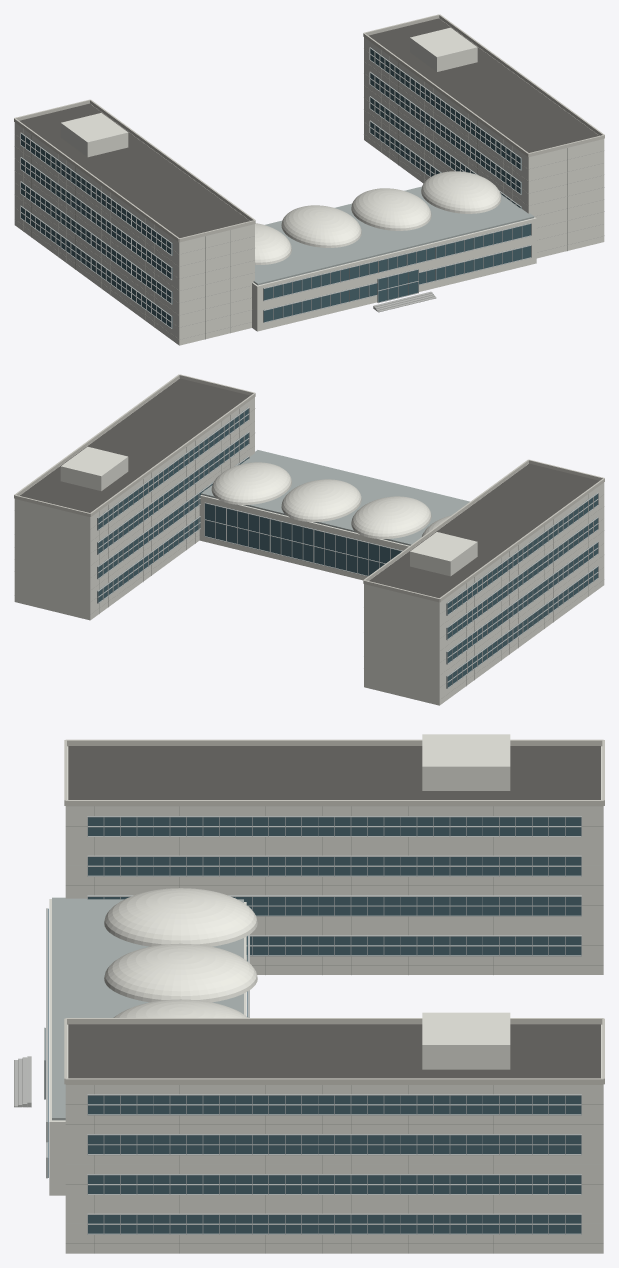
The picture shows the model from 3 angles, top to bottom: view 1: azimuth 30°, elevation 25°; view 2: azimuth 150°, elevation 25°; view 3: azimuth 270°, elevation 25°; orthographic projection. The views are drawn at different scales.
Parts seen in each view (by area): view 1: left-wing__white, right-wing__white, rounded-roof-covers-estimated__white, left-roof-estimated__roof, right-roof-estimated__roof, link-roof__rooflight, left-outer-estimated-ribbon__blue, low-front-link__white, link-front-ribbon__blue, right-inner-ribbon__blue, left-outer-estimated-ribbon__frame, right-inner-ribbon__frame (+9 smaller); view 2: left-wing__white, right-wing__white, left-roof-estimated__roof, right-roof-estimated__roof, rounded-roof-covers-estimated__white, left-outer-estimated-ribbon__blue, link-rear-estimated__blue, right-inner-ribbon__blue, left-outer-estimated-ribbon__frame, link-roof__rooflight, right-inner-ribbon__frame, low-front-link__white (+7 smaller); view 3: right-wing__white, left-wing__white, right-outer-estimated-ribbon__blue, left-inner-ribbon__blue, right-roof-estimated__roof, left-roof-estimated__roof, rounded-roof-covers-estimated__white, right-outer-estimated-ribbon__frame, left-inner-ribbon__frame, link-roof__rooflight, left-roof-estimated__light, right-roof-estimated__light (+6 smaller).
Boxes of the visible parts, x1,y1,x2,y2 form: left-wing__white: (14,104,254,345); right-wing__white: (364,18,604,258); rounded-roof-covers-estimated__white: (255,171,501,264); left-roof-estimated__roof: (19,103,249,237); right-roof-estimated__roof: (369,18,598,152); link-roof__rooflight: (253,186,534,285); left-outer-estimated-ribbon__blue: (21,134,172,328); low-front-link__white: (252,217,536,331); link-front-ribbon__blue: (263,224,530,322); right-inner-ribbon__blue: (370,49,521,208); left-outer-estimated-ribbon__frame: (20,132,172,328); right-inner-ribbon__frame: (369,47,521,208); left-wing__white: (364,464,604,705); right-wing__white: (14,378,254,620); left-roof-estimated__roof: (369,463,599,597); right-roof-estimated__roof: (20,378,249,512); rounded-roof-covers-estimated__white: (211,462,451,538); left-outer-estimated-ribbon__blue: (446,494,597,688); link-rear-estimated__blue: (205,503,401,575); right-inner-ribbon__blue: (97,409,248,602); left-outer-estimated-ribbon__frame: (446,492,598,688); link-roof__rooflight: (201,450,469,545); right-inner-ribbon__frame: (97,407,249,603); low-front-link__white: (199,495,409,580); right-wing__white: (65,1024,603,1253); left-wing__white: (65,746,603,974); right-outer-estimated-ribbon__blue: (88,1095,581,1233); left-inner-ribbon__blue: (88,817,581,955); right-roof-estimated__roof: (68,1024,600,1078); left-roof-estimated__roof: (68,746,600,799); rounded-roof-covers-estimated__white: (104,888,257,1017); right-outer-estimated-ribbon__frame: (87,1094,581,1234); left-inner-ribbon__frame: (87,816,581,956); link-roof__rooflight: (52,897,243,1120); left-roof-estimated__light: (64,739,604,806); right-roof-estimated__light: (64,1018,604,1084).
Bounding box in the file's own units: 73.44 × 19.55 × 53.83.
